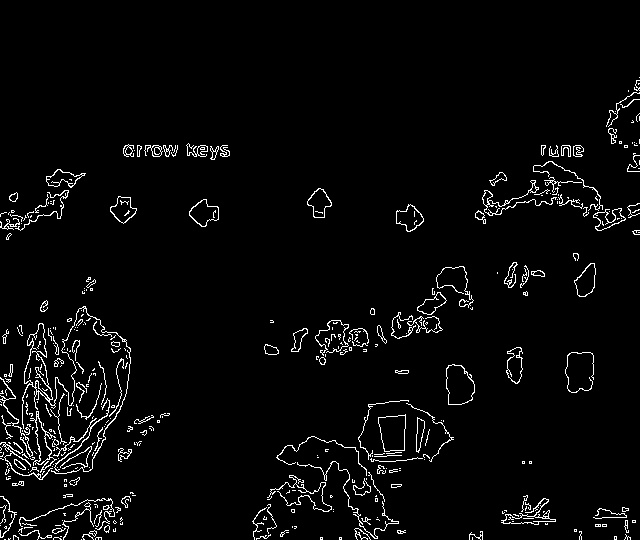down: (105, 190, 146, 231)
left: (181, 192, 227, 234)
right: (389, 200, 432, 239)
up: (300, 182, 340, 226)
